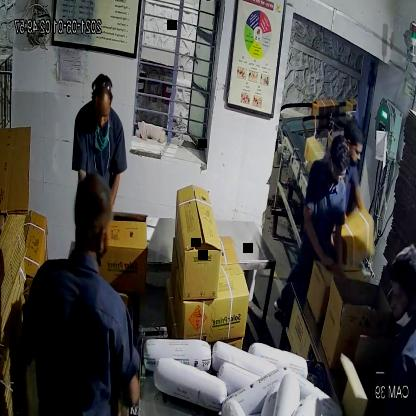no_goggles: (90, 106, 110, 124)
